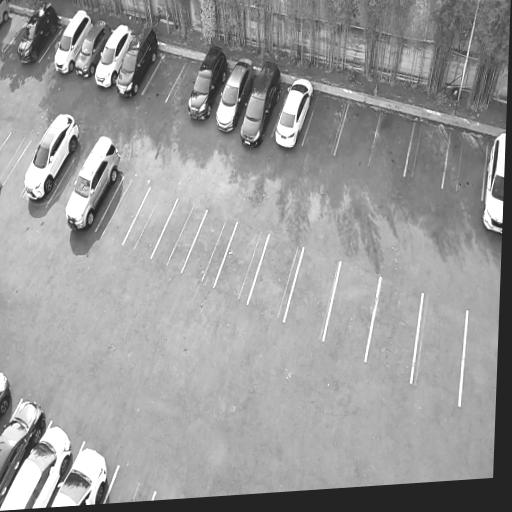Car: (56, 129, 127, 238), (15, 103, 85, 209), (0, 417, 79, 509), (0, 390, 53, 503), (235, 54, 287, 151), (46, 438, 118, 508), (111, 16, 165, 103), (182, 40, 235, 124), (210, 51, 259, 136), (270, 69, 319, 154), (13, 0, 64, 68), (90, 20, 138, 92), (50, 4, 97, 77), (478, 128, 506, 242), (70, 17, 114, 84), (0, 370, 18, 424)
Space Available: (411, 293, 468, 403), (365, 276, 423, 381), (323, 261, 379, 360), (284, 248, 340, 340), (247, 233, 304, 319), (215, 220, 269, 304), (182, 209, 238, 287), (151, 198, 207, 271), (122, 187, 178, 258), (96, 177, 150, 245), (404, 119, 451, 188), (442, 130, 488, 199), (369, 112, 414, 175), (302, 95, 348, 154), (335, 105, 381, 164), (142, 51, 187, 102), (104, 464, 156, 504), (47, 158, 83, 212), (3, 140, 39, 192), (0, 132, 31, 187), (166, 61, 201, 106), (0, 13, 27, 52), (39, 27, 67, 62), (4, 18, 31, 54)
